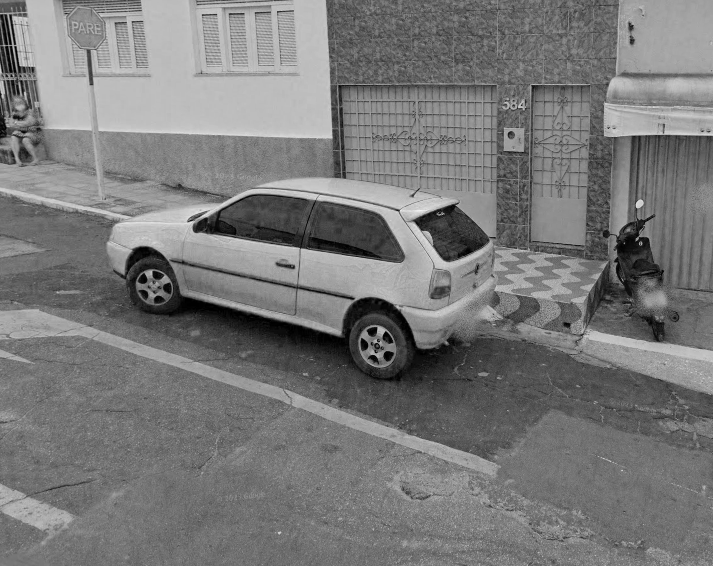car: (97, 169, 510, 383)
